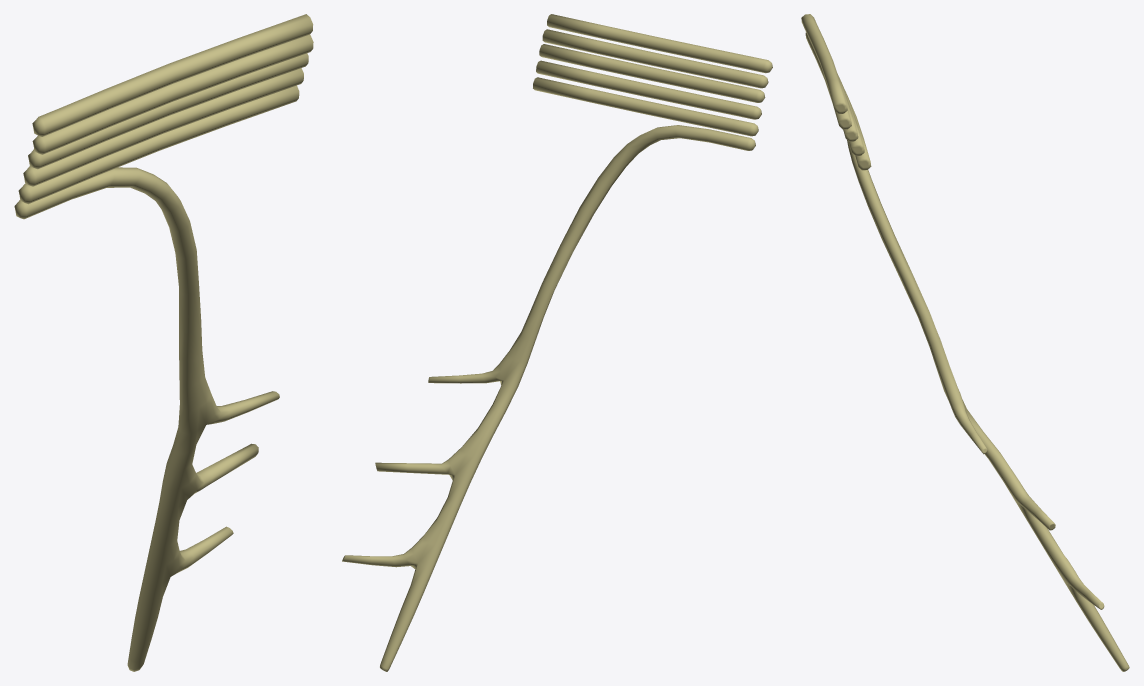
The model's file is Nerves_R8.FBX.
The picture shows the model from 3 angles, left to right: view 1: azimuth 30°, elevation 25°; view 2: azimuth 150°, elevation 25°; view 3: azimuth 270°, elevation 25°; orthographic projection. The views are drawn at different scales.
Visible parts, largest first — view 1: Nerves_R8; view 2: Nerves_R8; view 3: Nerves_R8.
Boxes of the visible parts, x1,y1,x2,y2 form: Nerves_R8: [14, 14, 313, 671]; Nerves_R8: [342, 14, 772, 671]; Nerves_R8: [801, 14, 1129, 671].
Bounding box in the file's own units: 0.0107 × 0.0202 × 0.0108.
